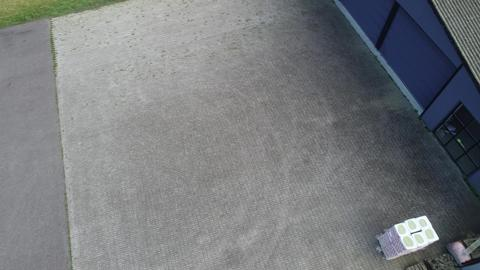RockwoolPallet: (377, 214, 440, 261)
